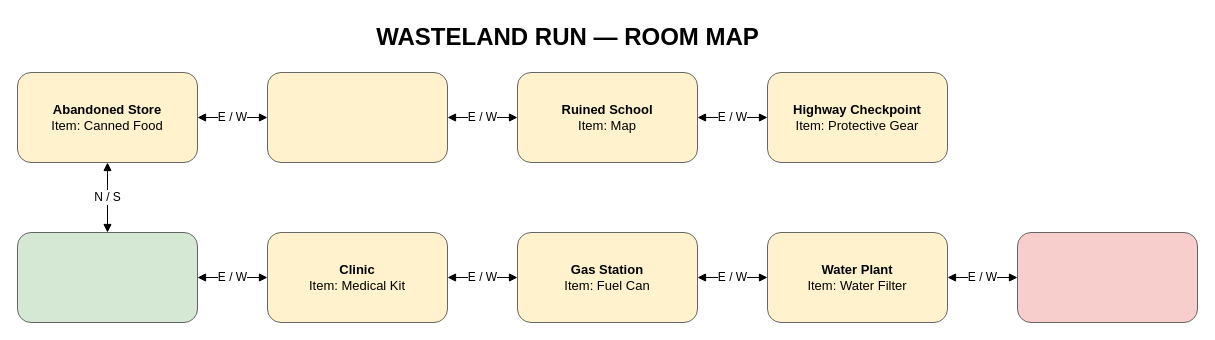
This 1215x340 diagram has some shape labels left out. The centre of each missing label's shape, as x and y in pixels:
"Command Bunker VILLAIN: Raider Leader — no item" goes at (1107,277).
"Radio Tower Item: Radio Battery" goes at (357,117).
"Survivor Shelter START — no item" goes at (107,277).
